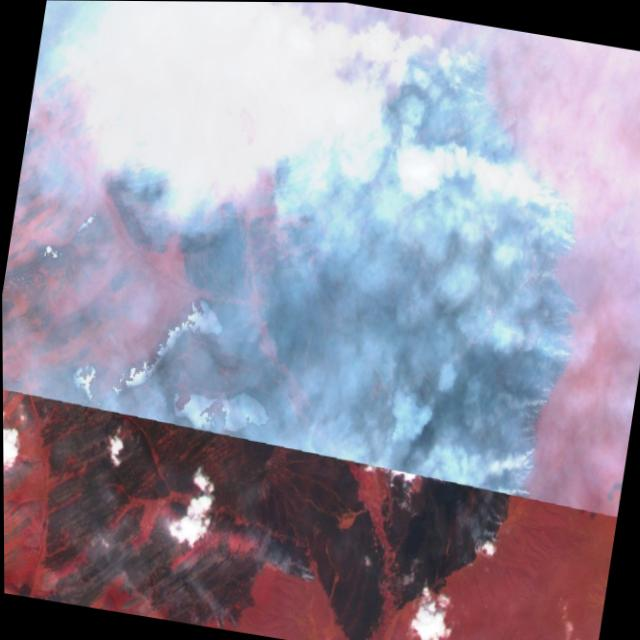fire: (309, 22, 640, 609)
